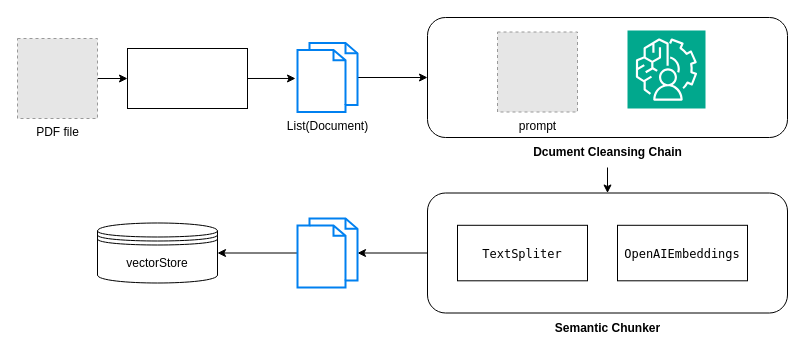
The diagram is 805 pixels wide and 360 high, and some of its shapes have lost their labels. Grey dashed boxes stand in for pictures. Here are the shapes that lost their labels. From the top down, the centre of each, then its label:
At (x=187, y=78): "PyPDFLoader".
At (x=666, y=69): "Language Model".
At (x=327, y=252): "List(Chunked Docs)".
